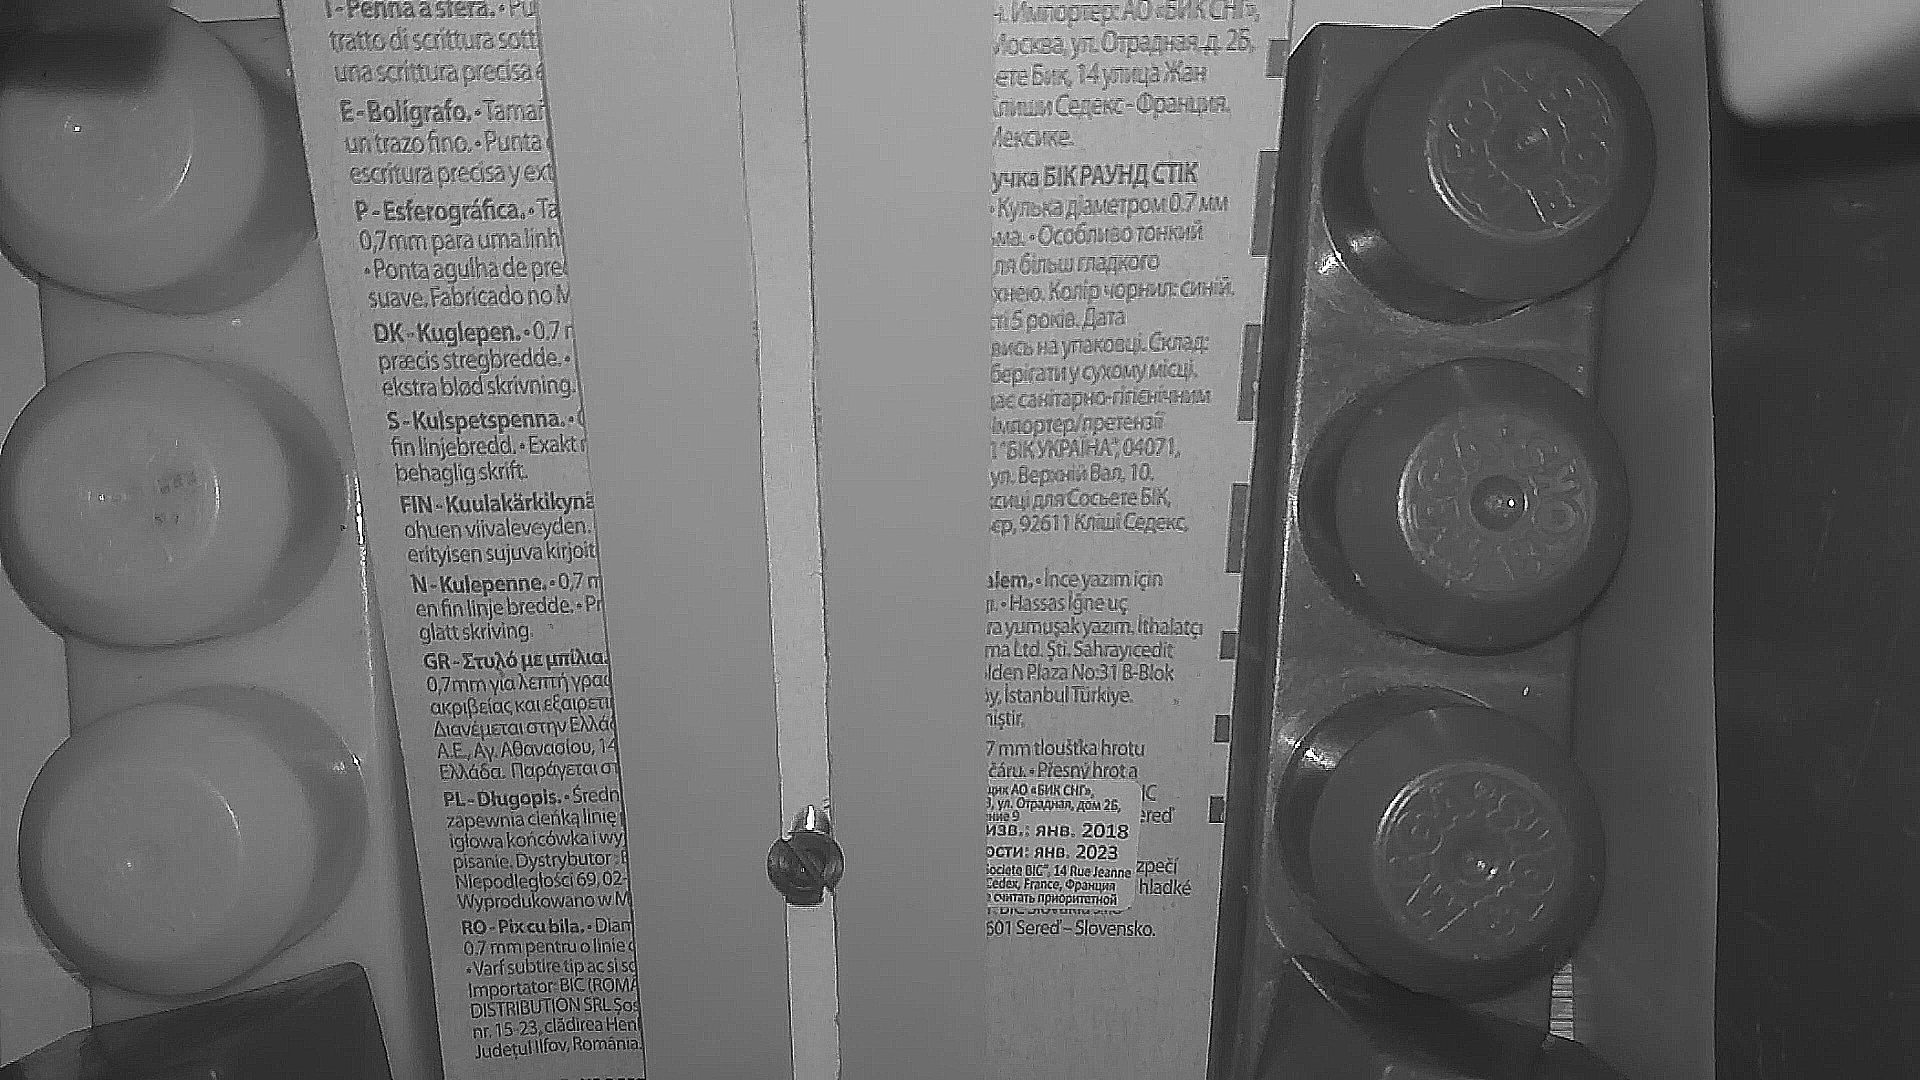i: (767, 829, 845, 906)
